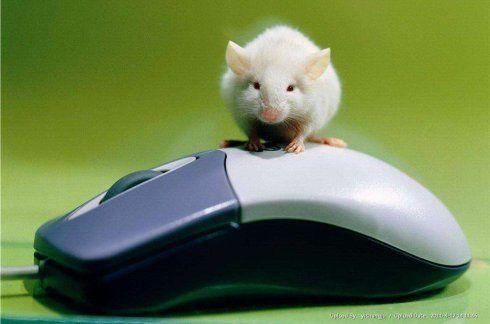rat: (220, 16, 336, 144)
